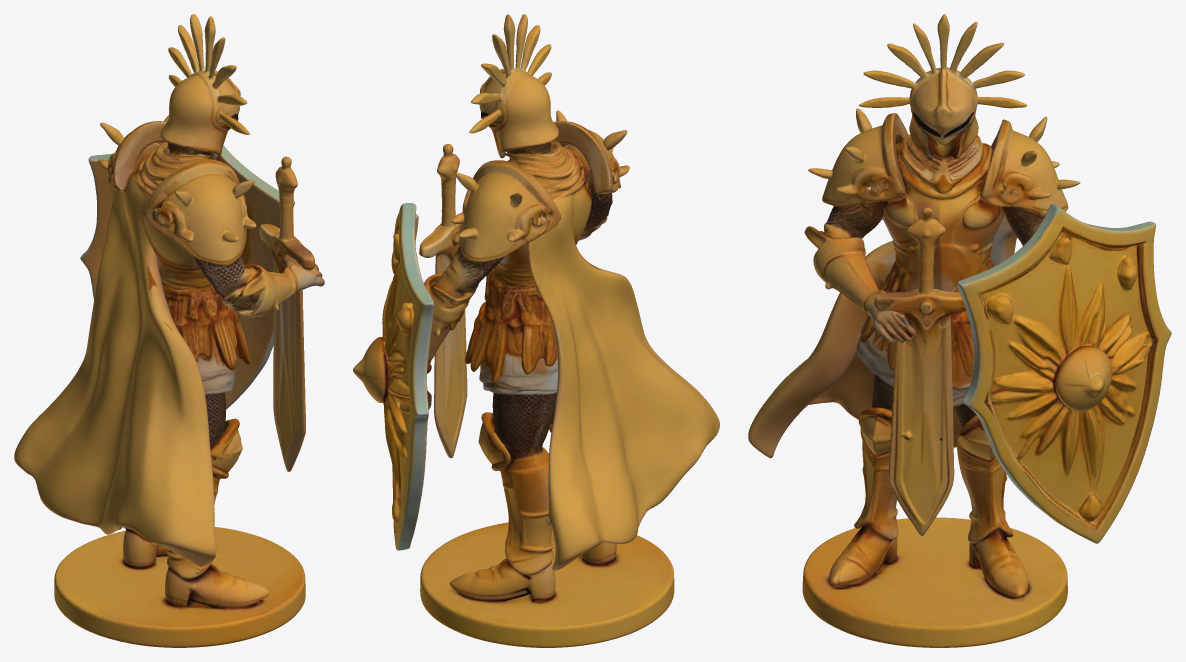
File: mesh.glb.tmp-opt.glb
3 views of the same model, side by side, from view 1: azimuth 30°, elevation 25°; view 2: azimuth 150°, elevation 25°; view 3: azimuth 270°, elevation 25° (orthographic). The views are drawn at different scales.
Visible parts, largest first — view 1: tripo_node_ff4df813-36cf-44b6-b7bd-7b3067f7d449; view 2: tripo_node_ff4df813-36cf-44b6-b7bd-7b3067f7d449; view 3: tripo_node_ff4df813-36cf-44b6-b7bd-7b3067f7d449.
Boxes of the visible parts, x1,y1,x2,y2 form: tripo_node_ff4df813-36cf-44b6-b7bd-7b3067f7d449: (14, 14, 324, 647); tripo_node_ff4df813-36cf-44b6-b7bd-7b3067f7d449: (353, 14, 719, 647); tripo_node_ff4df813-36cf-44b6-b7bd-7b3067f7d449: (748, 14, 1171, 647).
Bounding box in the file's own units: 0.4384 × 1 × 0.6414.
Materials: 1 (1 with a texture image).
